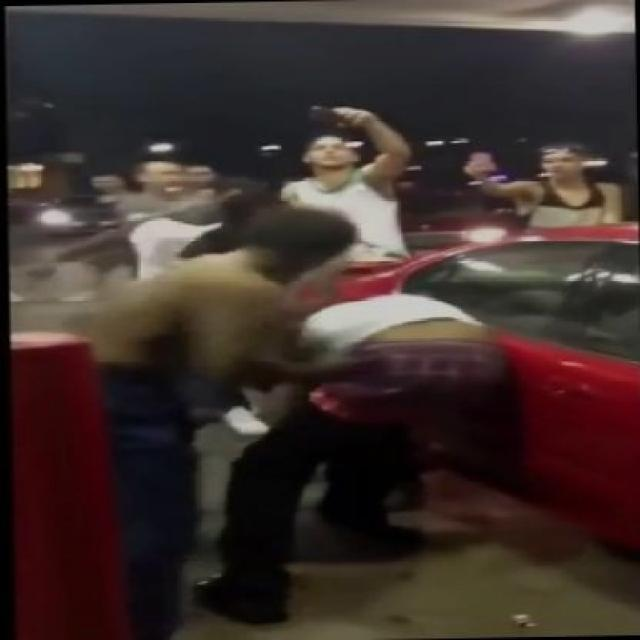fight: (52, 198, 530, 633)
